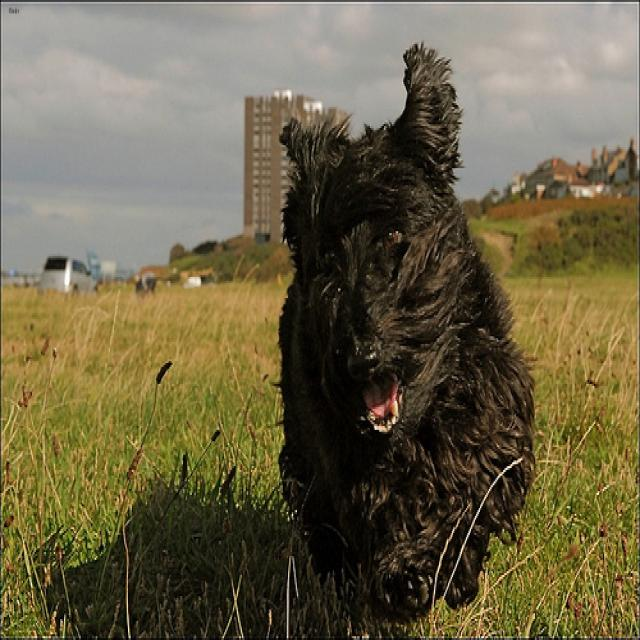dog-scottish_terrier: (265, 38, 543, 629)
